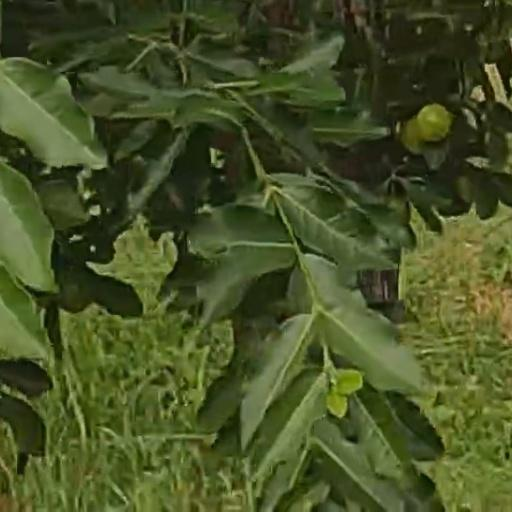acerola: (421, 104, 450, 139), (404, 119, 421, 155)
